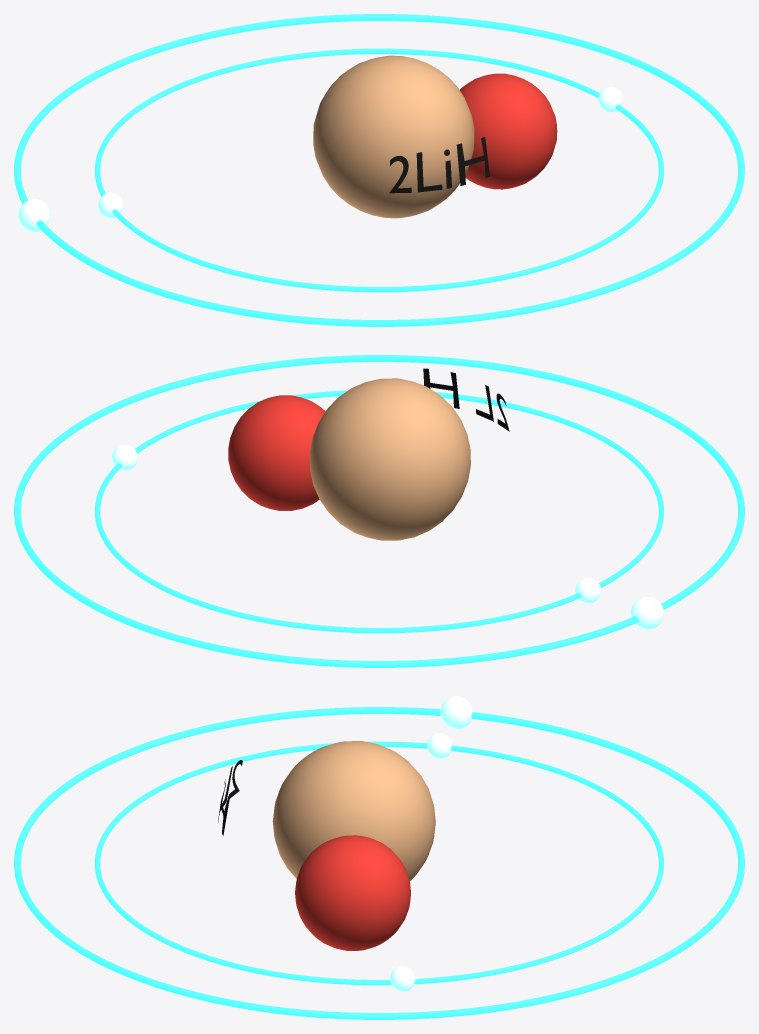
File: 2LiH.fbx
The picture shows the model from 3 angles, top to bottom: view 1: azimuth 30°, elevation 25°; view 2: azimuth 150°, elevation 25°; view 3: azimuth 270°, elevation 25°; orthographic projection.
Parts seen in each view (by area): view 1: Sphere.003, BézierCircle.001, Sphere.006, BézierCircle.002, Text.001, Sphere.002; view 2: Sphere.003, BézierCircle.001, Sphere.006, BézierCircle.002, Text.001, Sphere.002, Sphere.004, Sphere.005; view 3: Sphere.003, BézierCircle.001, Sphere.006, BézierCircle.002, Sphere.002, Sphere.005.
Part boxes in pixels (x1,y1,x2,y2): Sphere.003: (313,55,474,218); BézierCircle.001: (14,14,744,326); Sphere.006: (460,73,557,189); BézierCircle.002: (95,48,663,292); Text.001: (389,137,489,193); Sphere.002: (18,199,50,232); Sphere.003: (309,378,470,540); BézierCircle.001: (14,355,744,667); Sphere.006: (228,395,325,510); BézierCircle.002: (95,390,663,633); Text.001: (423,368,509,431); Sphere.002: (630,596,663,629); Sphere.004: (575,578,600,603); Sphere.005: (112,445,137,470); Sphere.003: (272,741,435,881); BézierCircle.001: (14,707,744,1019); Sphere.006: (295,835,410,950); BézierCircle.002: (95,741,663,985); Sphere.002: (440,696,472,729); Sphere.005: (390,966,415,991).
Size of the model in its own units: 93.86 by 20.8 by 93.24.
